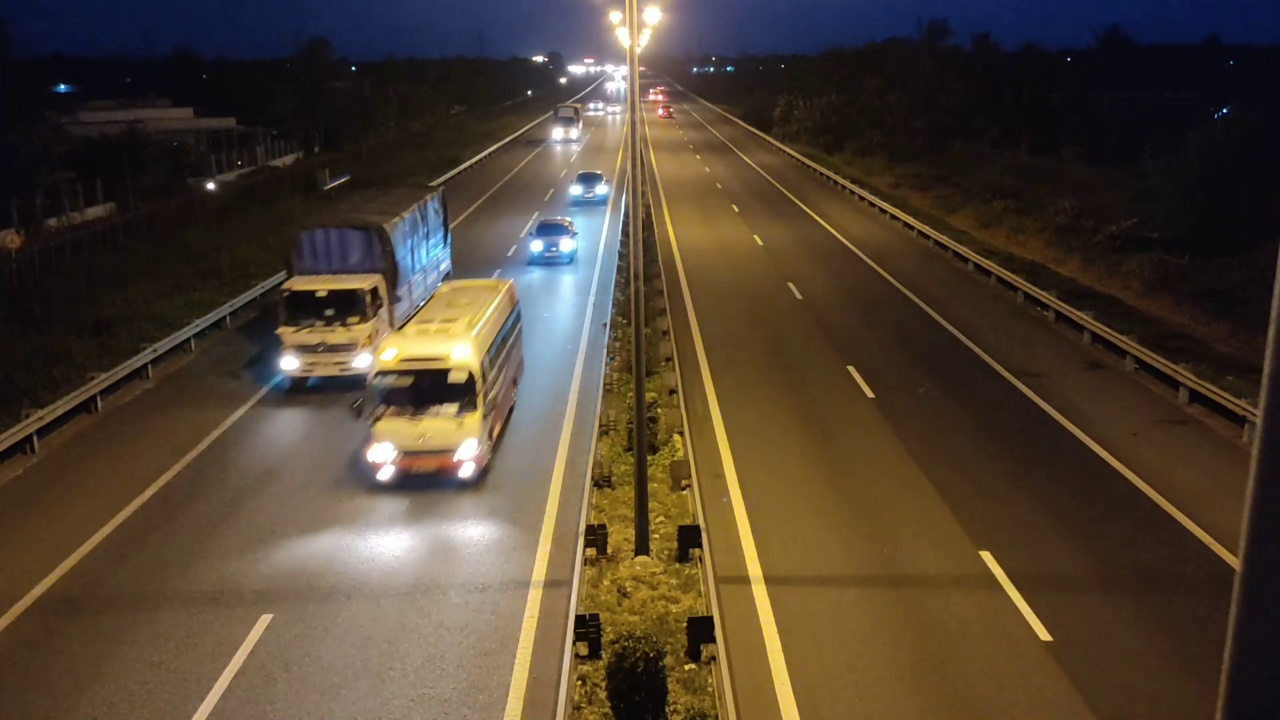bus: (349, 275, 527, 489)
car: (525, 217, 579, 265), (568, 169, 607, 203)
truck: (274, 182, 454, 390)
